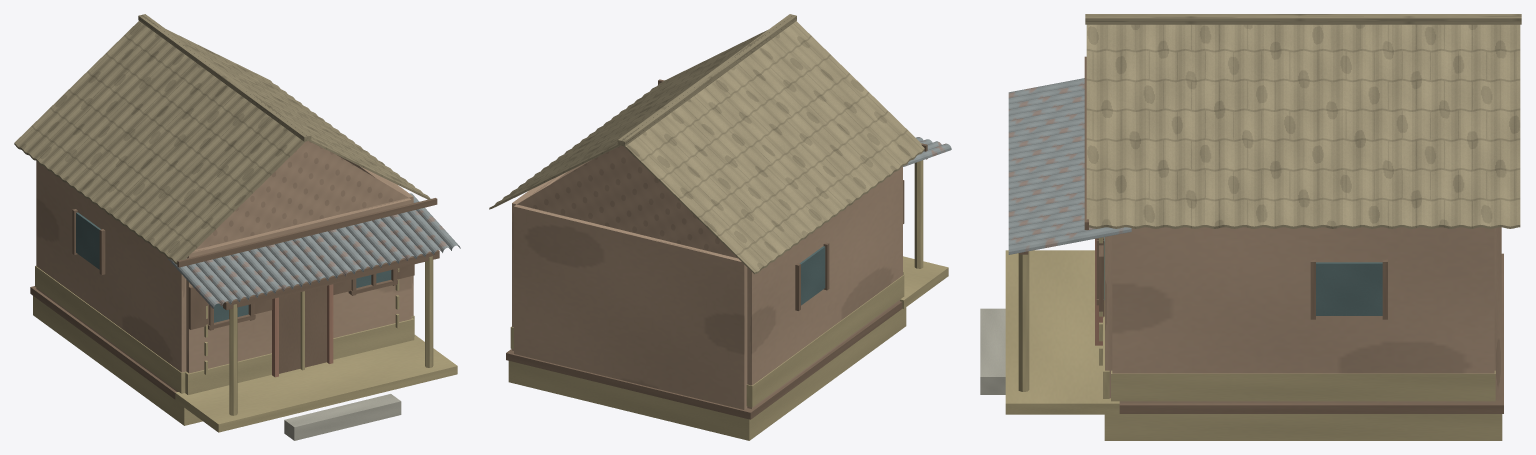
File: Nha03_NgoiReu_HienTon.fbx
3 views of the same model, side by side, from view 1: azimuth 30°, elevation 25°; view 2: azimuth 150°, elevation 25°; view 3: azimuth 270°, elevation 25° (orthographic). The views are drawn at different scales.
Parts seen in each view (by area): view 1: Main_clay_tile_roof.002, Side_wall.004, Porch_roof.002, Porch_floor.002, Upper_gable.004, Gable_wall.004, Front_bottom_band.002, Door_recess.002, Bottom_band.004, Plinth.002, Front_step.002, Front_fascia.002 (+10 smaller); view 2: Main_clay_tile_roof.002, Gable_wall.005, Side_wall.004, Upper_gable.005, Plinth.002, Raised_floor, Bottom_band.004, Ridge_cap.002, Porch_floor.002, Side_window.004, Bamboo_porch_post, Side_wall.005 (+1 smaller); view 3: Main_clay_tile_roof.002, Side_wall.005, Porch_floor.002, Porch_roof.002, Bottom_band.005, Plinth.002, Ridge_cap.002, Raised_floor, Side_window.005, Front_step.002, Bamboo_porch_post.001, Gable_wall.005 (+2 smaller).
Boxes of the visible parts, <box> form: Main_clay_tile_roof.002: <box>14,21,431,264</box>; Side_wall.004: <box>36,161,186,391</box>; Porch_roof.002: <box>167,193,460,308</box>; Porch_floor.002: <box>175,335,457,432</box>; Upper_gable.004: <box>196,141,408,249</box>; Gable_wall.004: <box>186,197,411,373</box>; Front_bottom_band.002: <box>185,317,414,394</box>; Door_recess.002: <box>279,286,326,373</box>; Bottom_band.004: <box>35,266,186,393</box>; Plinth.002: <box>33,296,202,425</box>; Front_step.002: <box>284,394,401,440</box>; Front_fascia.002: <box>177,198,437,267</box>; Main_clay_tile_roof.002: <box>489,21,924,274</box>; Gable_wall.005: <box>514,204,747,409</box>; Side_wall.004: <box>747,166,902,408</box>; Upper_gable.005: <box>517,145,737,258</box>; Plinth.002: <box>508,307,906,440</box>; Raised_floor: <box>506,301,902,419</box>; Bottom_band.004: <box>746,275,904,407</box>; Ridge_cap.002: <box>617,14,796,146</box>; Porch_floor.002: <box>900,256,948,308</box>; Side_window.004: <box>799,246,825,305</box>; Bamboo_porch_post: <box>914,160,923,268</box>; Side_wall.005: <box>512,160,590,350</box>; Main_clay_tile_roof.002: <box>1086,24,1520,228</box>; Side_wall.005: <box>1112,227,1494,403</box>; Porch_floor.002: <box>1005,250,1119,414</box>; Porch_roof.002: <box>1008,78,1131,254</box>; Bottom_band.005: <box>1111,370,1495,401</box>; Plinth.002: <box>1104,414,1502,440</box>; Ridge_cap.002: <box>1085,14,1521,24</box>; Raised_floor: <box>1119,253,1503,413</box>; Side_window.005: <box>1316,262,1382,315</box>; Front_step.002: <box>980,308,1005,394</box>; Bamboo_porch_post.001: <box>1018,251,1029,391</box>; Gable_wall.005: <box>1494,227,1501,400</box>.
Bounding box in the file's own units: 523 × 516 × 722.
